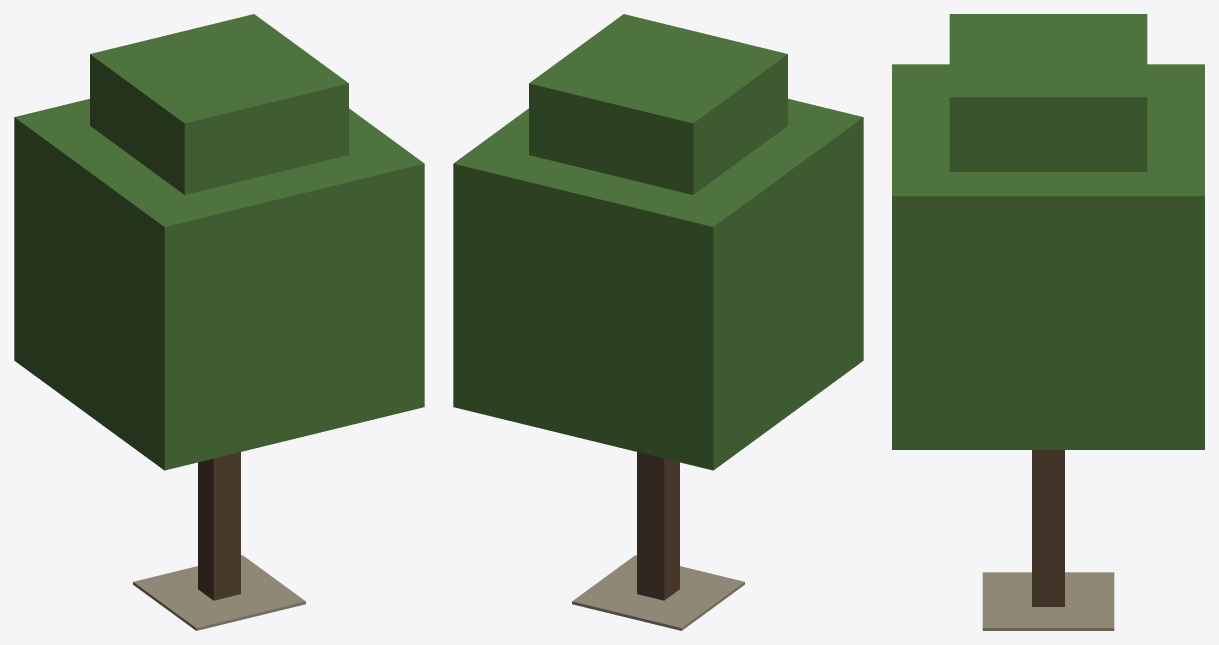
The model's file is square-tree.glb.
The picture shows the model from 3 angles, left to right: view 1: azimuth 30°, elevation 25°; view 2: azimuth 150°, elevation 25°; view 3: azimuth 270°, elevation 25°; orthographic projection. The views are drawn at different scales.
Visible parts, largest first — view 1: square-tree; view 2: square-tree; view 3: square-tree.
Boxes of the visible parts, x1,y1,x2,y2 form: square-tree: [14, 14, 424, 630]; square-tree: [453, 14, 863, 630]; square-tree: [892, 14, 1204, 630].
Size of the model in its own units: 3.8 by 7.4 by 3.8.
